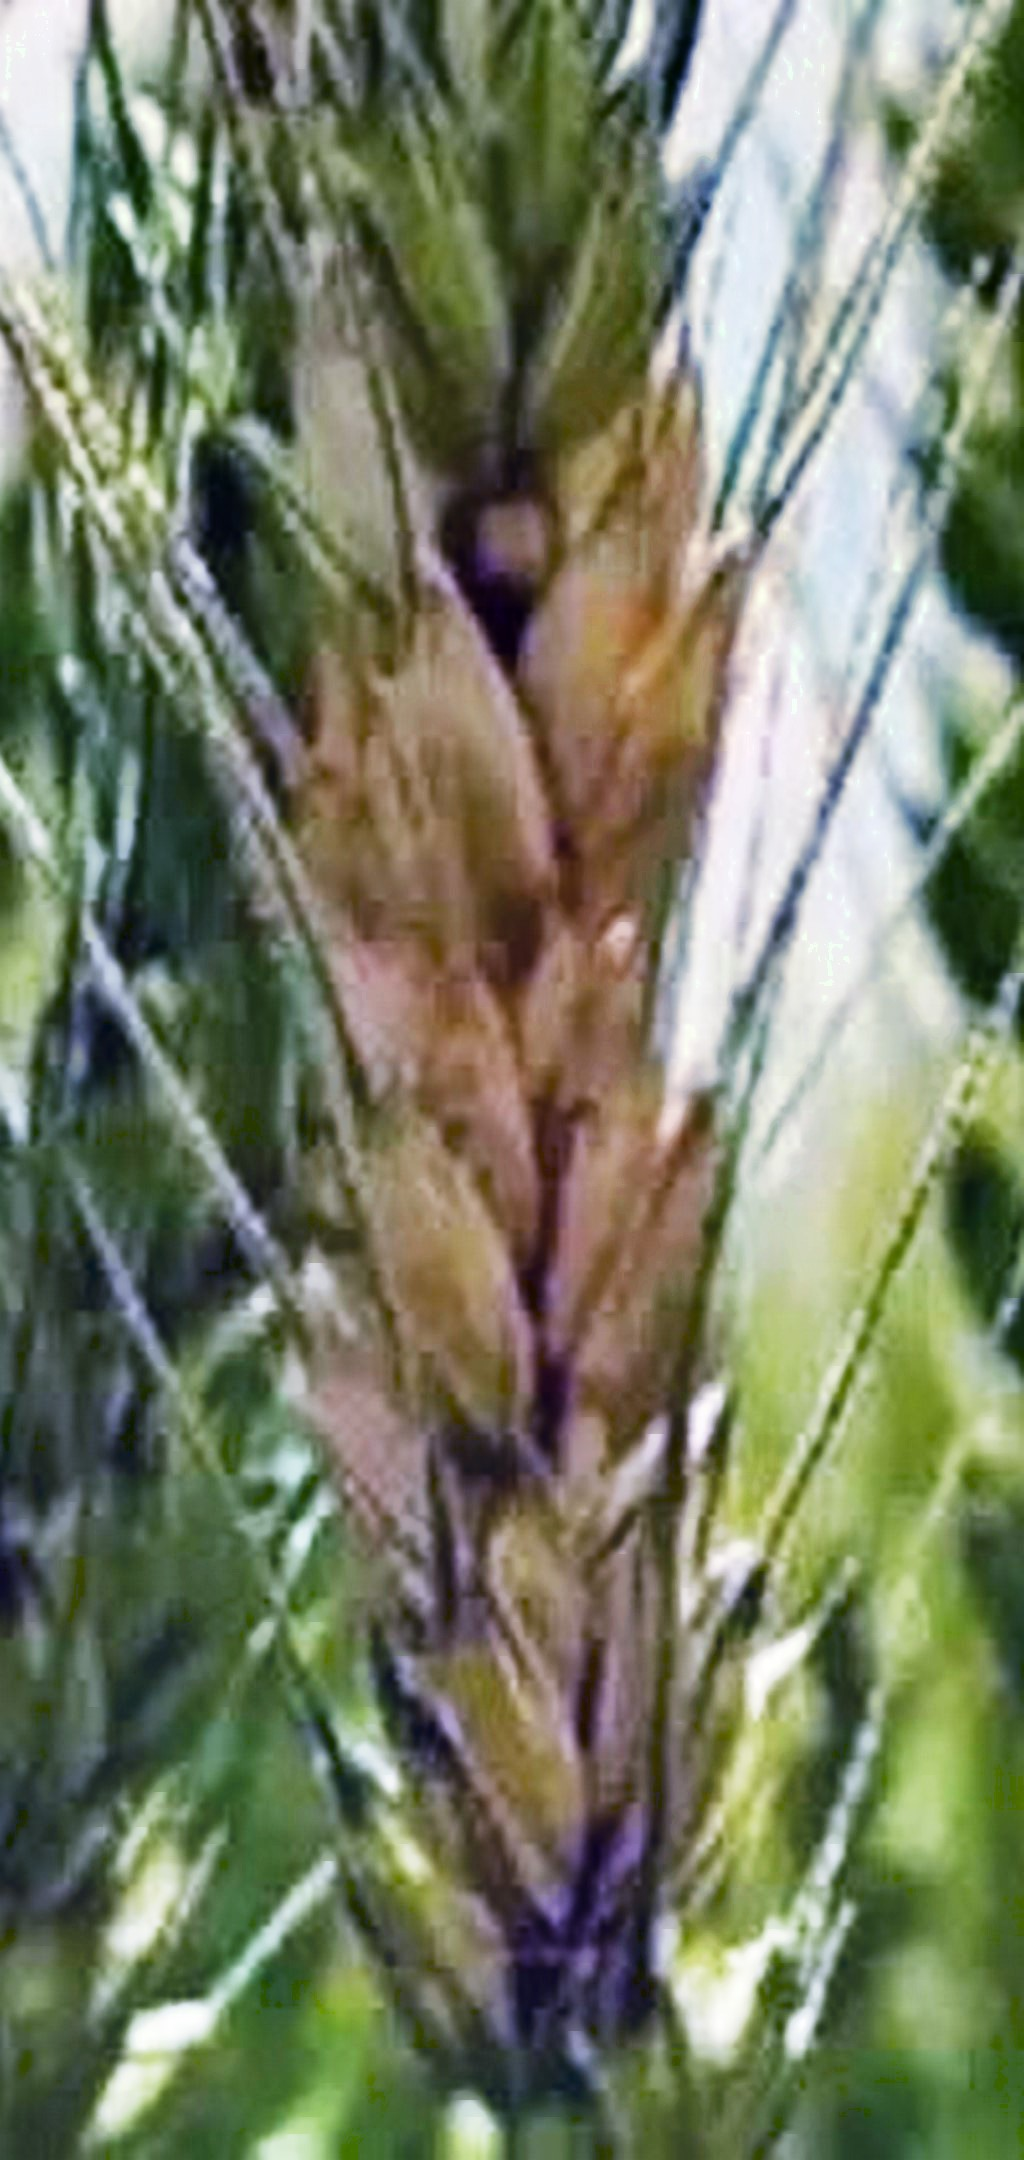Wheat scab: (136, 103, 806, 2013)
